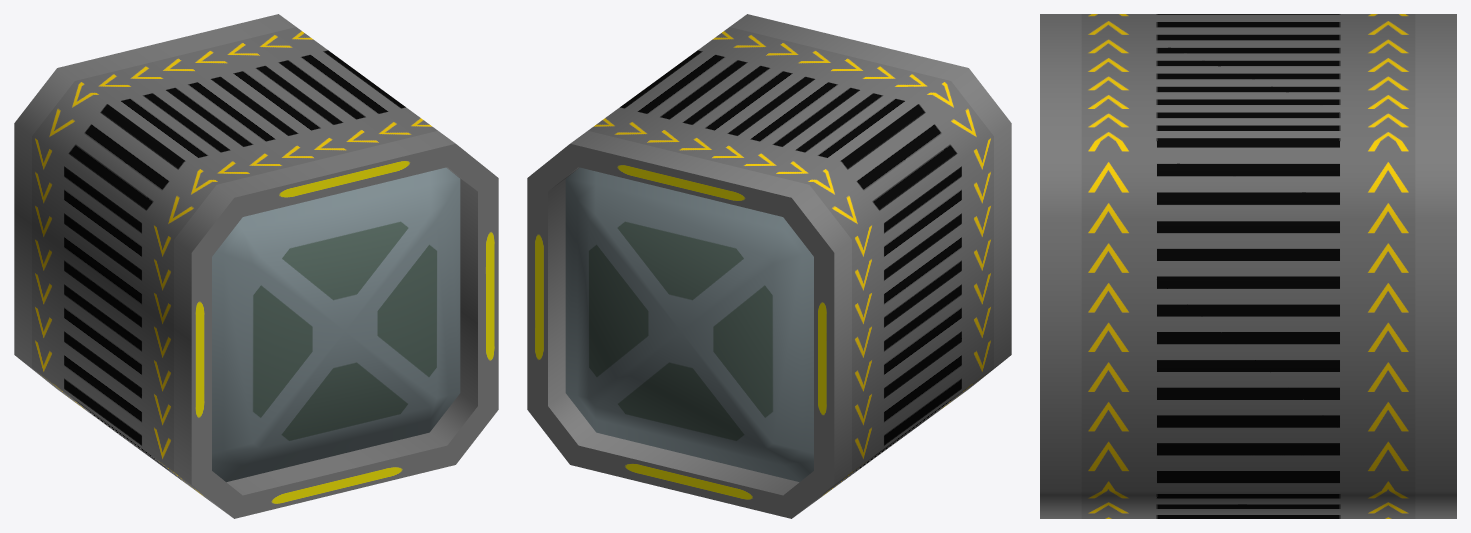
Rendered from FloodingBlog.fbx.
The picture shows the model from 3 angles, left to right: view 1: azimuth 30°, elevation 25°; view 2: azimuth 150°, elevation 25°; view 3: azimuth 270°, elevation 25°; orthographic projection. The views are drawn at different scales.
Visible parts, largest first — view 1: geo1; view 2: geo1; view 3: geo1.
Boxes of the visible parts, <box> form: geo1: <box>14,14,498,518</box>; geo1: <box>527,14,1011,518</box>; geo1: <box>1040,14,1456,518</box>.
Bounding box in the file's own units: 3 × 3 × 3.
